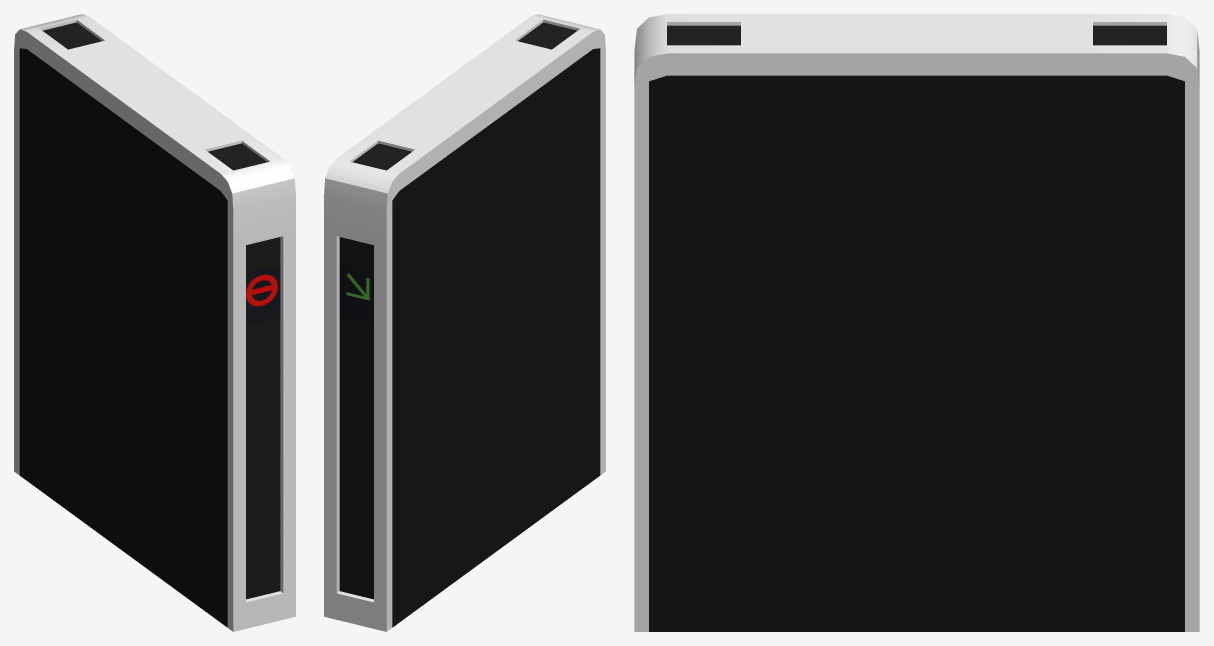
File: gate.fbx
3 renders of one model, left to right at view 1: azimuth 30°, elevation 25°; view 2: azimuth 150°, elevation 25°; view 3: azimuth 270°, elevation 25°, orthographic. The views are drawn at different scales.
Visible parts, largest first — view 1: gate; view 2: gate; view 3: gate.
Boxes of the visible parts, x1,y1,x2,y2 form: gate: [14, 14, 295, 631]; gate: [324, 14, 605, 631]; gate: [634, 14, 1199, 631].
Size of the model in its own units: 0.000976 by 0.00669 by 0.00592.
1 material, 1 textured.
